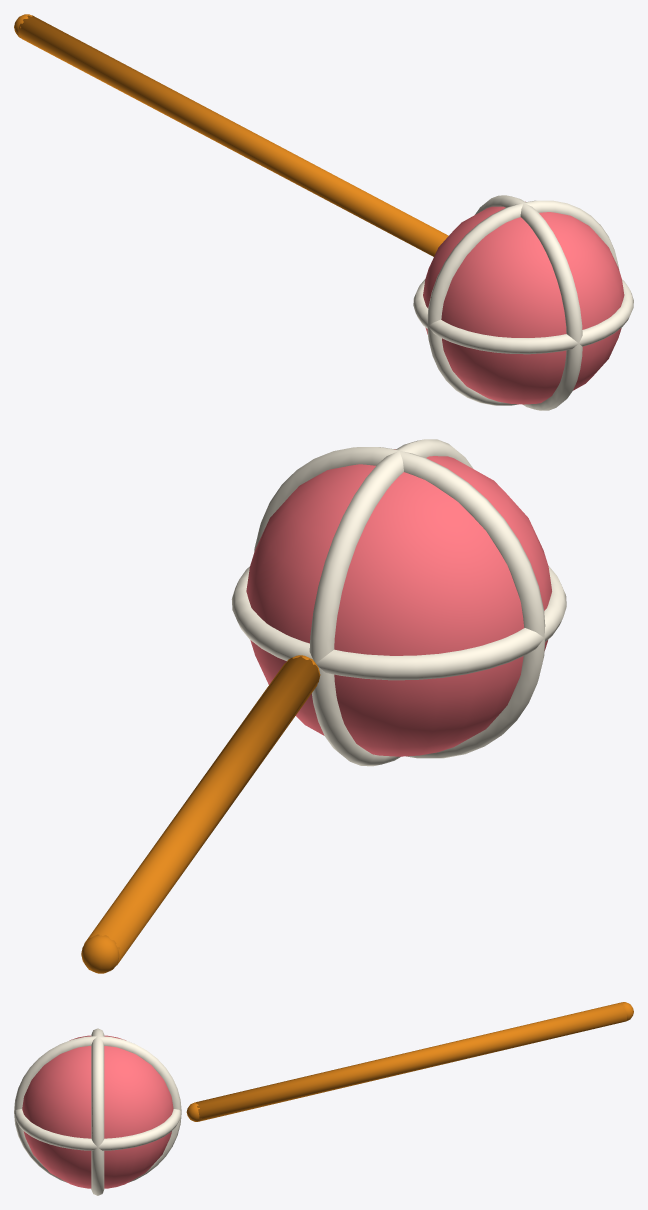
Rendered from ScratchPostMoving_Premium.fbx.
3 views of the same model, one above another, from view 1: azimuth 30°, elevation 25°; view 2: azimuth 150°, elevation 25°; view 3: azimuth 270°, elevation 25° (orthographic). The views are drawn at different scales.
Parts seen in each view (by area): view 1: ScratchPost_Moving; view 2: ScratchPost_Moving; view 3: ScratchPost_Moving.
Boxes of the visible parts, x1,y1,x2,y2 form: ScratchPost_Moving: [14, 14, 633, 410]; ScratchPost_Moving: [81, 439, 566, 973]; ScratchPost_Moving: [14, 1002, 633, 1195].
Size of the model in its own units: 0.1369 by 0.1019 by 0.3768.
